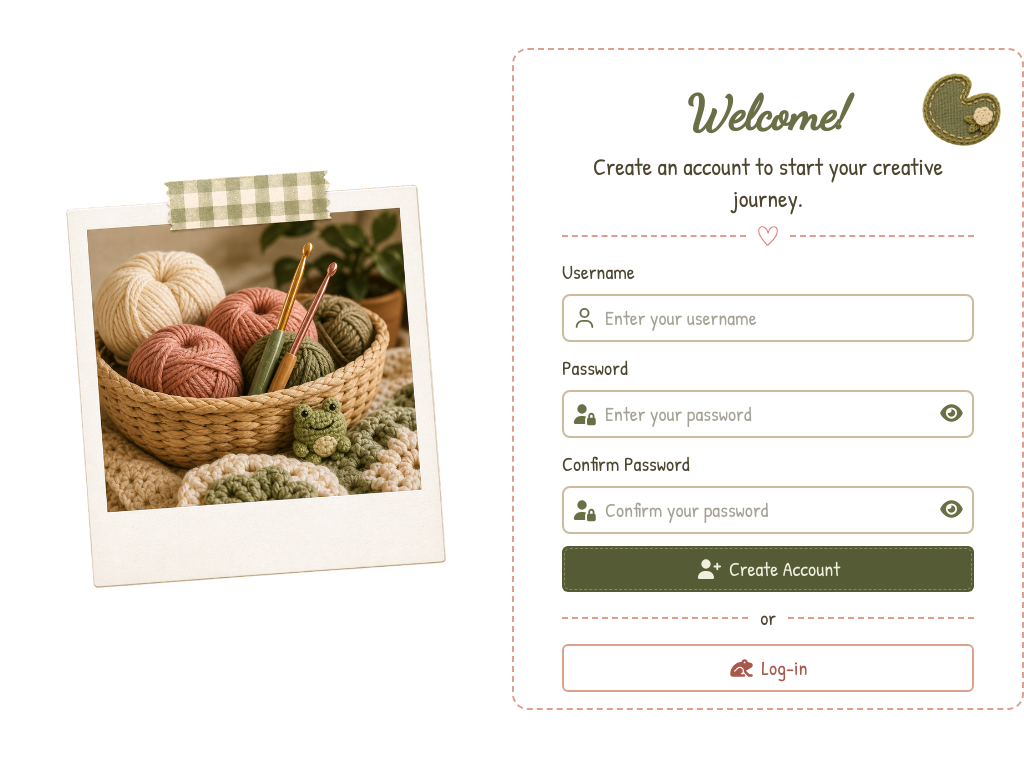
Test: CreateAccount › places a duplicate-username error on the username field
Type "froggy" into the field labelled "Username". click: (784, 318)
box: [605,304,964,332]
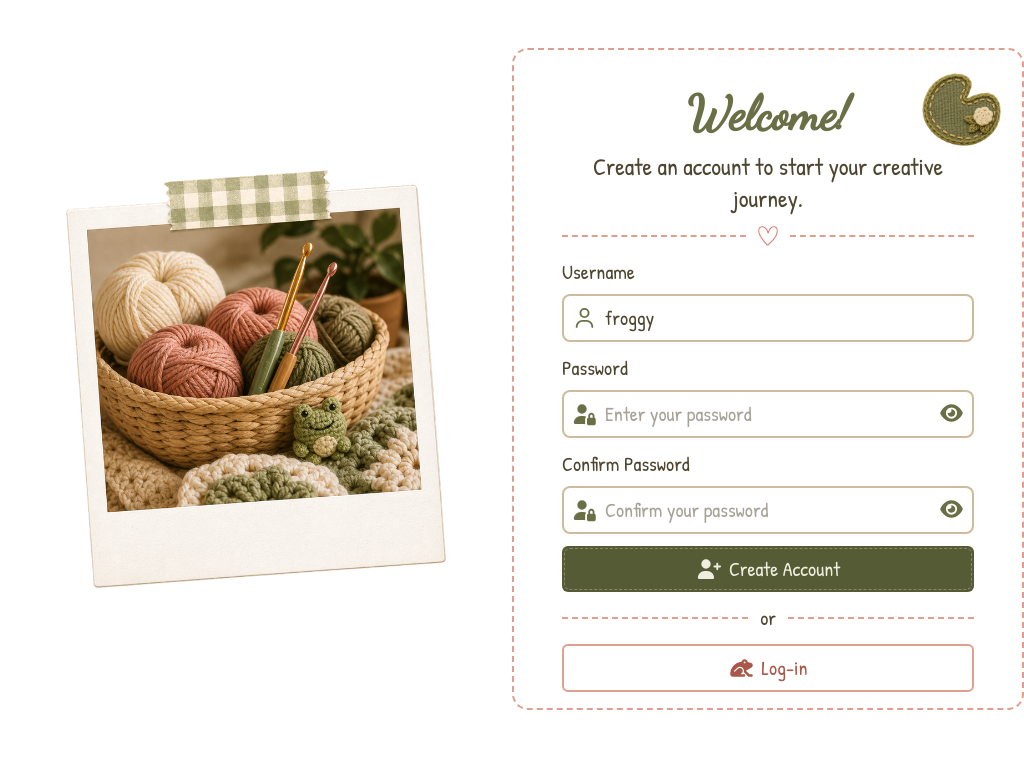
Type "secret" into the password field labelled "Password". click: (768, 414)
box: [605,400,931,428]
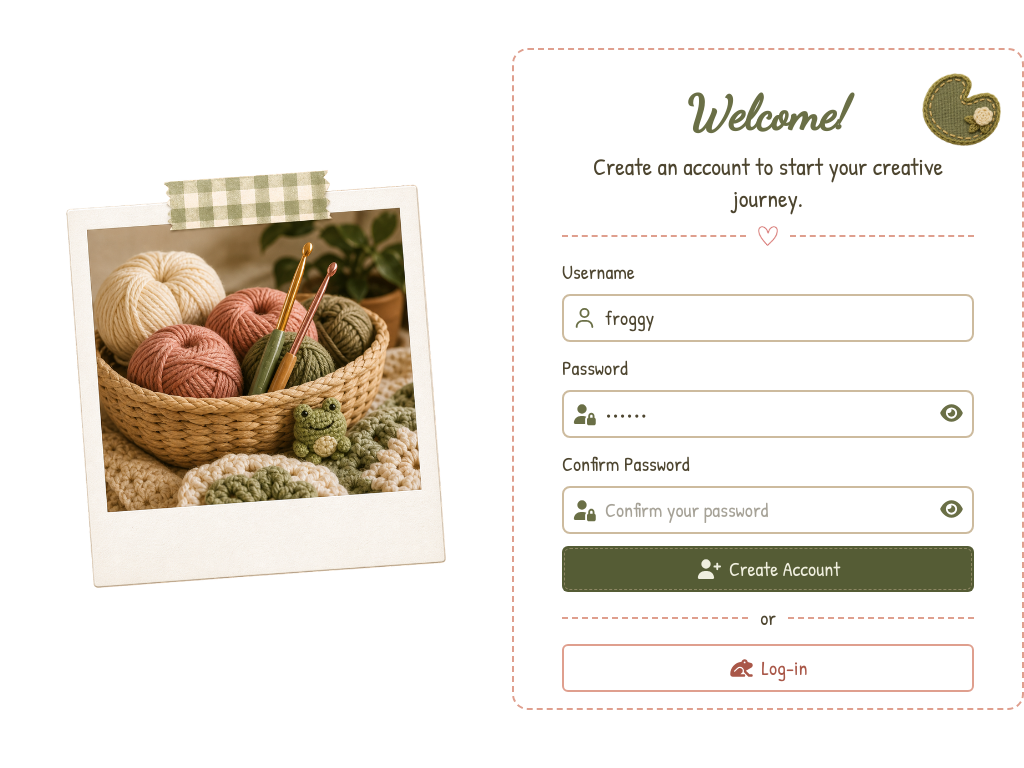
Type "secret" into the password field labelled "Confirm Password". click: (768, 510)
box: [605,496,931,524]
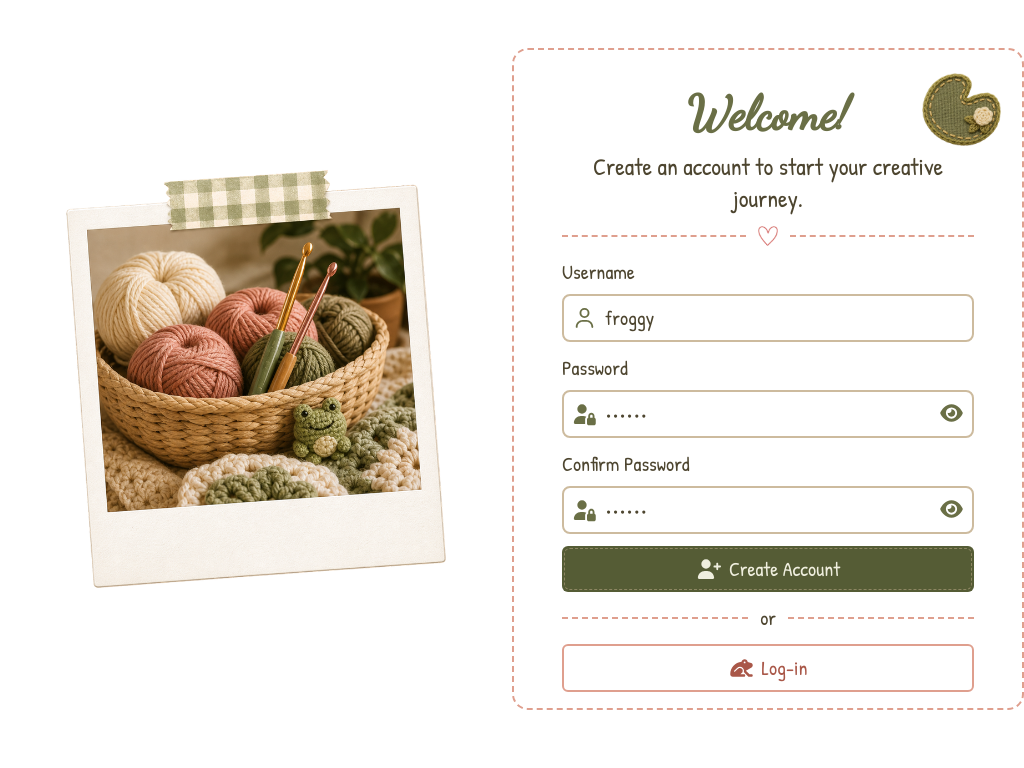
Click the button "Create Account". click: (768, 569)
box: [562,546,974,592]
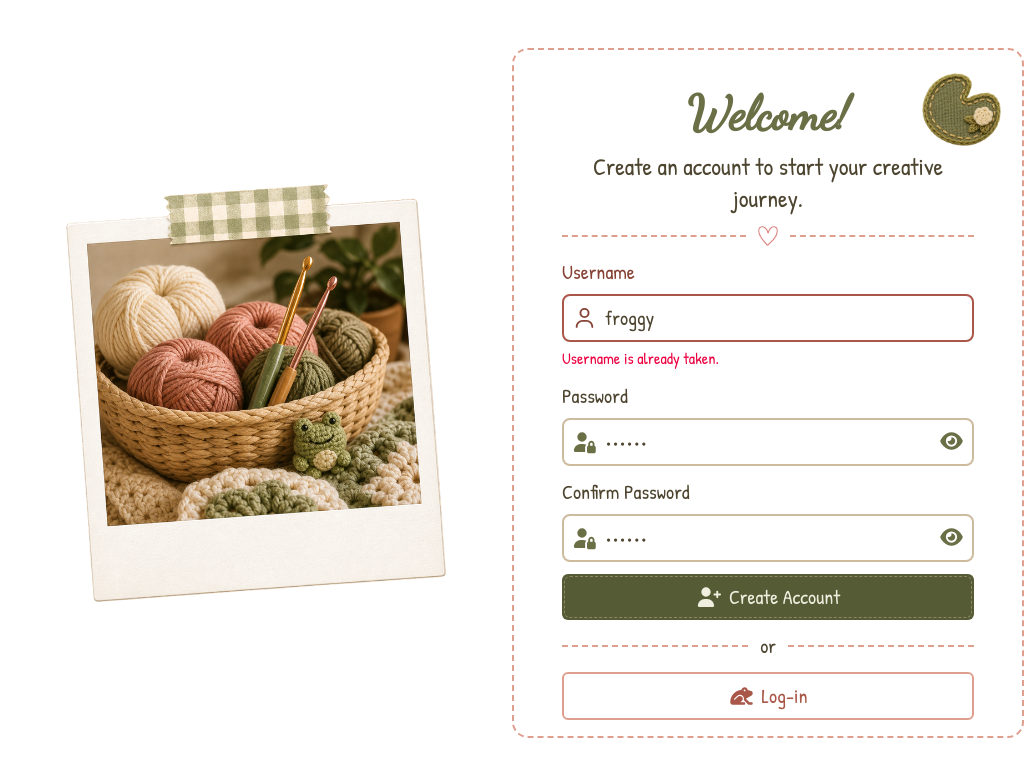
Check: the text "Username is already taken." is shown, box [562,347,719,369]
